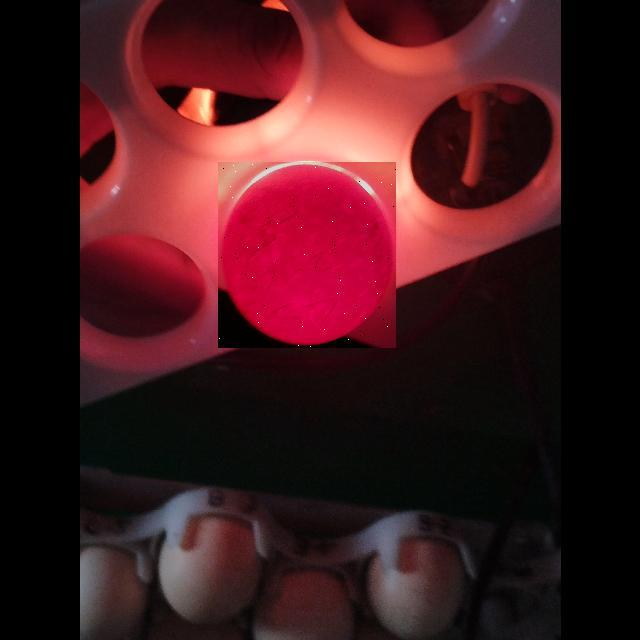Infertile: (218, 162, 396, 348)
